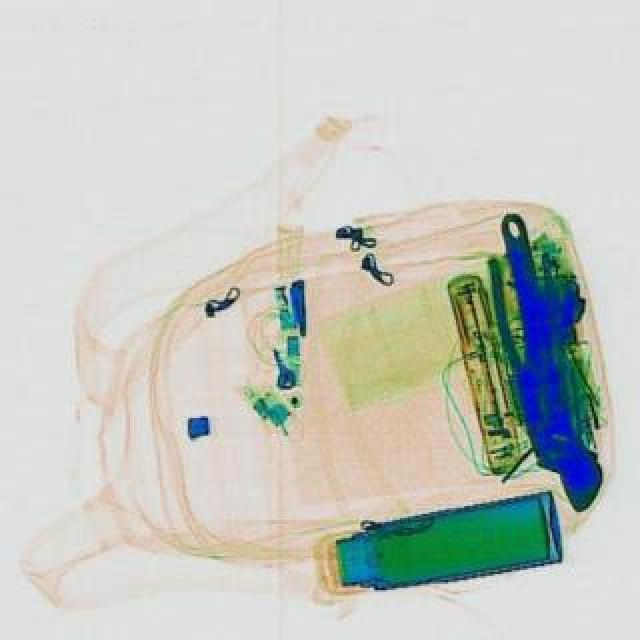scissors: (482, 208, 608, 516)
